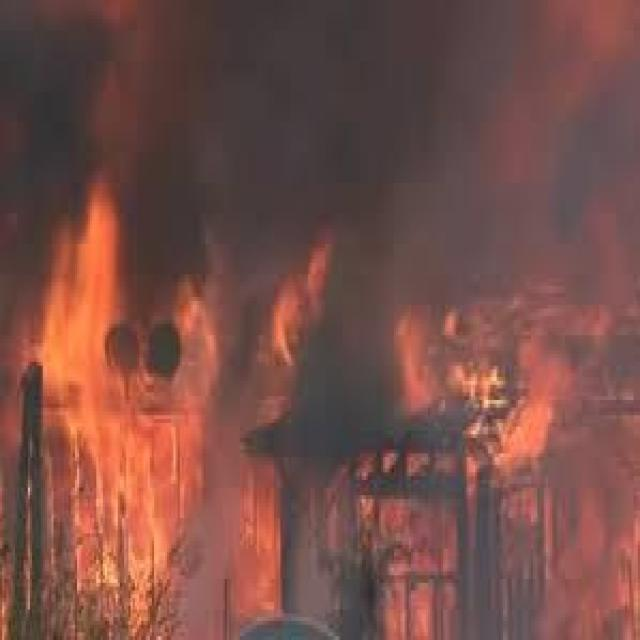fire: (154, 11, 623, 268), (23, 213, 218, 608), (408, 296, 577, 498)
